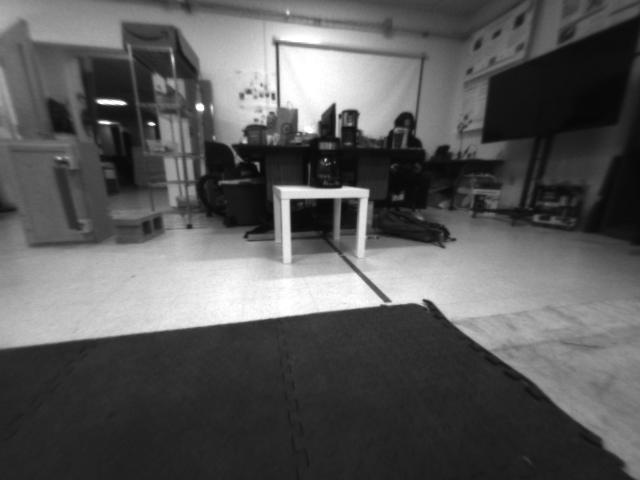coffee_pot: (306, 134, 351, 192)
